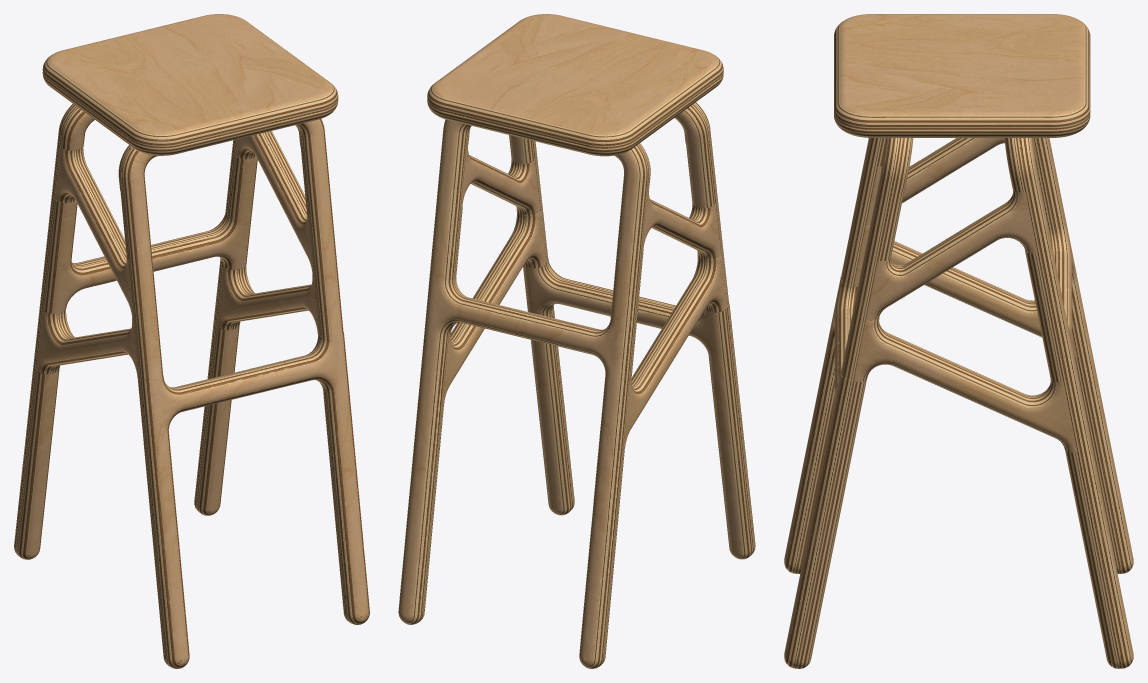
File: stool.glb
3 renders of one model, left to right at view 1: azimuth 30°, elevation 25°; view 2: azimuth 150°, elevation 25°; view 3: azimuth 270°, elevation 25°, orthographic. The views are drawn at different scales.
Visible parts, largest first — view 1: Stool.001; view 2: Stool.001; view 3: Stool.001.
Part boxes in pixels (bbox=[...]): Stool.001: bbox=[14, 14, 369, 668]; Stool.001: bbox=[398, 14, 755, 668]; Stool.001: bbox=[784, 14, 1133, 668].
Size of the model in its own units: 0.3441 by 0.8398 by 0.4775.
Materials: 2 (2 with a texture image).
